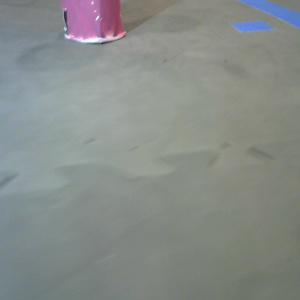middle: (61, 1, 127, 44)
